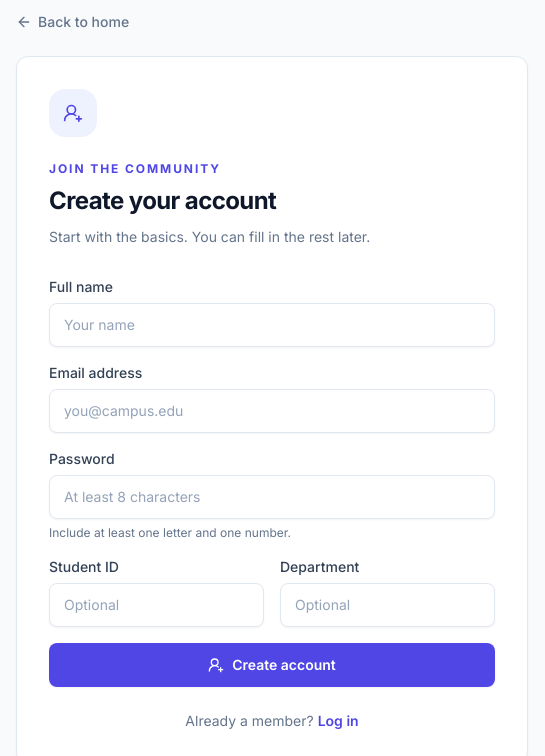
Scenario: authentication forms › shows field errors for a weak registration password without submitting
The width and height of the screenshot is (545, 756).
Type "Taylor Student" into the field labelled "Full name".
click(272, 325); type("Taylor Student")  # box [49,303,495,347]
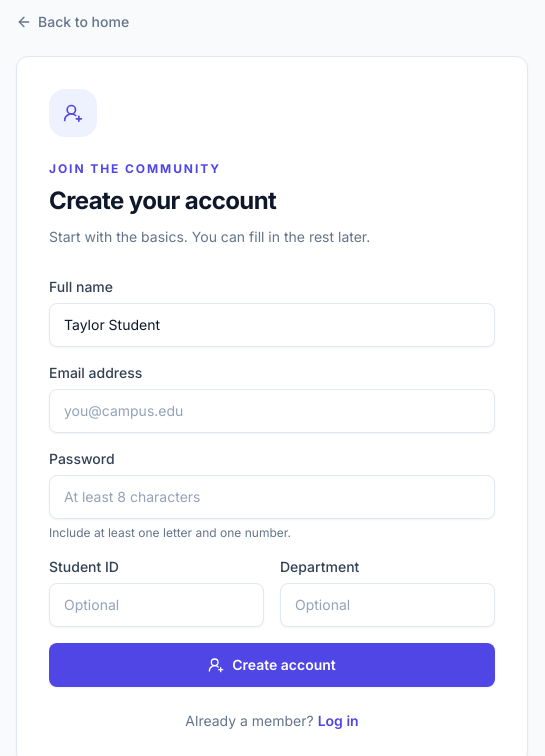
Type "taylor@example.test" into the field labelled "Email address".
click(272, 411); type("taylor@example.test")  # box [49,389,495,433]
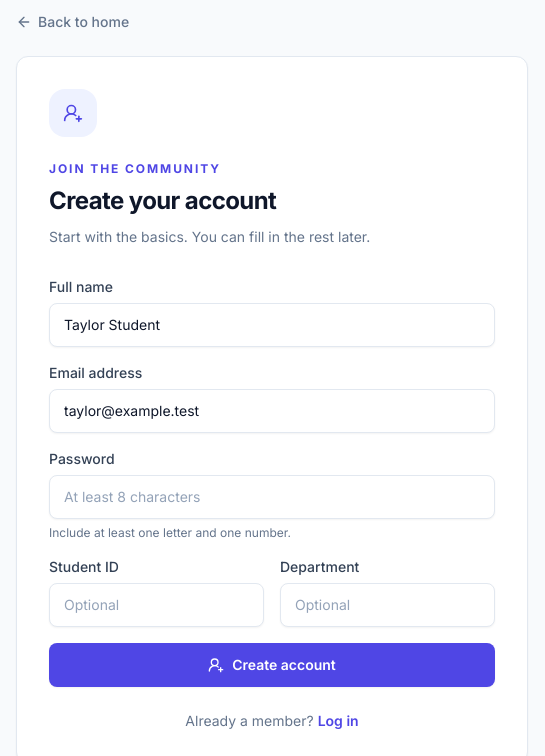
Type "weak" into the password field labelled "Password".
click(272, 497); type("weak")  # box [49,475,495,519]
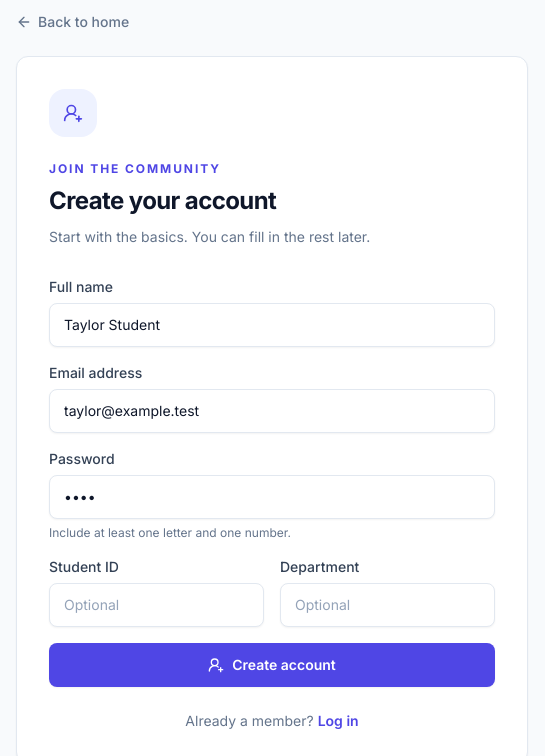
Click the button "Create account".
click(272, 665)  # box [49,643,495,687]
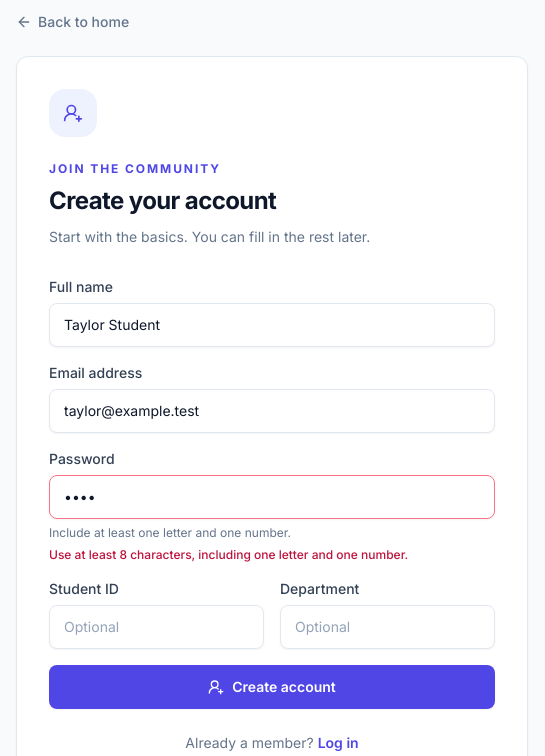
Now the text "Use at least 8 characters, including one letter and one number." is shown, box [49,547,408,562]
